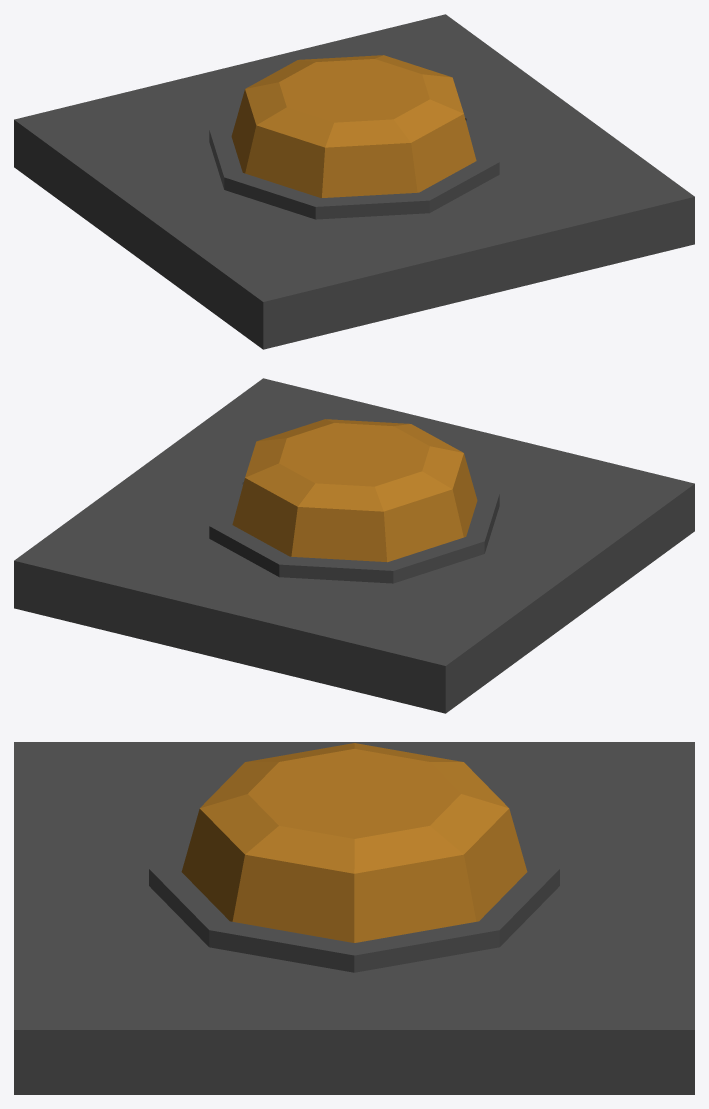
File: LittleButton.fbx
3 renders of one model, top to bottom at view 1: azimuth 30°, elevation 25°; view 2: azimuth 150°, elevation 25°; view 3: azimuth 270°, elevation 25°, orthographic. The views are drawn at different scales.
Parts seen in each view (by area): view 1: Cube, Cube.001; view 2: Cube, Cube.001; view 3: Cube, Cube.001.
Part boxes in pixels (bbox=[...]): Cube: bbox=[14, 14, 694, 349]; Cube.001: bbox=[231, 55, 476, 198]; Cube: bbox=[14, 378, 694, 713]; Cube.001: bbox=[232, 419, 477, 562]; Cube: bbox=[14, 742, 694, 1094]; Cube.001: bbox=[181, 743, 527, 942].
Size of the model in its own units: 68.9 by 17.54 by 68.9.
